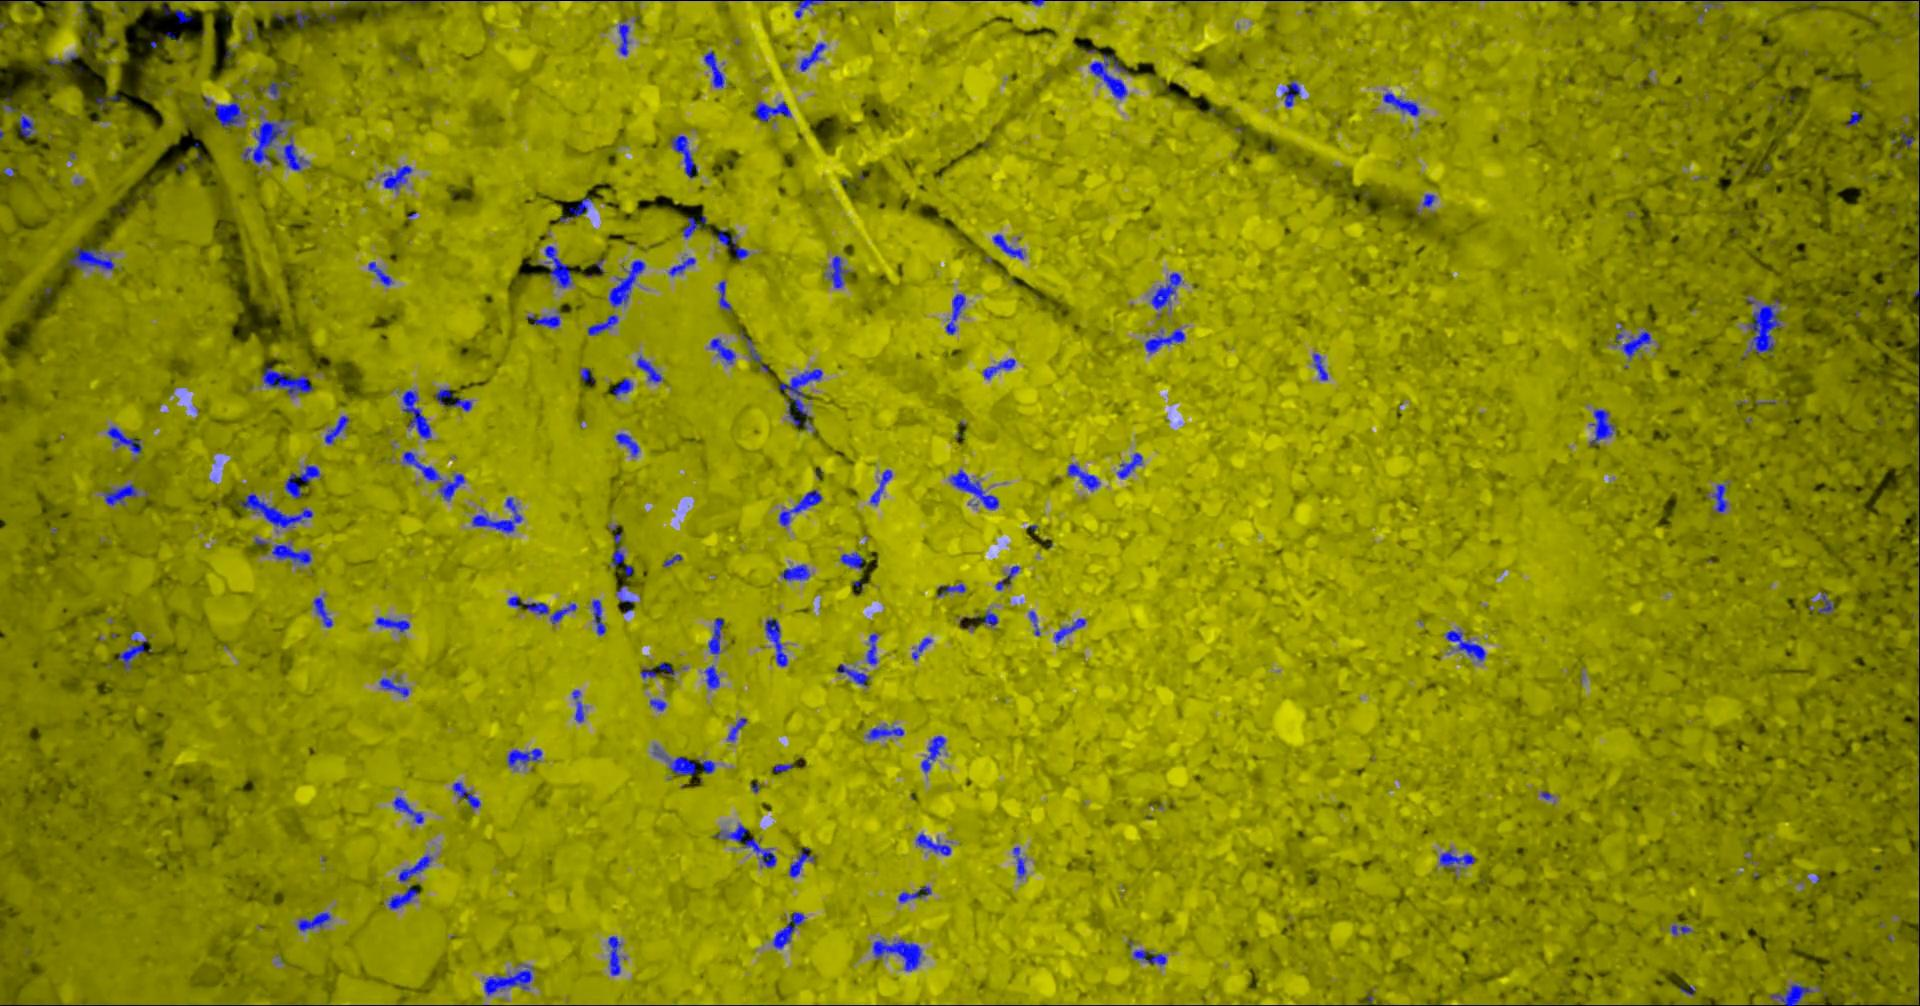ant: (712, 823, 776, 868), (778, 368, 822, 428), (237, 493, 312, 527), (241, 119, 291, 164), (949, 469, 998, 509), (1746, 297, 1780, 354), (653, 744, 714, 775), (471, 497, 522, 532), (1090, 53, 1128, 99), (608, 259, 644, 307), (262, 365, 312, 395), (778, 489, 822, 525), (872, 939, 921, 970), (483, 964, 532, 995), (202, 94, 246, 127), (403, 389, 430, 438), (117, 630, 151, 669), (1445, 630, 1484, 661), (1150, 272, 1183, 307), (283, 465, 319, 498), (543, 245, 571, 287), (739, 330, 767, 372), (772, 911, 804, 948), (670, 135, 697, 178), (403, 451, 441, 480), (712, 229, 748, 259), (67, 246, 114, 269), (764, 619, 787, 666), (105, 426, 141, 453), (1589, 408, 1615, 445), (397, 854, 432, 882), (1144, 328, 1183, 352), (282, 135, 309, 170), (1769, 983, 1811, 1005), (919, 735, 945, 771), (1382, 91, 1418, 116), (1067, 464, 1098, 490), (945, 293, 965, 334), (270, 544, 311, 564), (436, 387, 471, 410), (869, 469, 891, 504), (392, 796, 423, 823), (992, 234, 1023, 259), (103, 483, 137, 506), (799, 42, 825, 71), (1439, 848, 1474, 870), (559, 197, 590, 221), (1622, 332, 1650, 358), (507, 596, 549, 614), (452, 781, 480, 808), (789, 847, 814, 876), (916, 833, 950, 855), (387, 885, 418, 909), (824, 255, 847, 287), (1053, 619, 1084, 641), (836, 663, 869, 685), (709, 337, 735, 363), (383, 165, 411, 191), (636, 354, 662, 382), (324, 415, 349, 443), (438, 473, 463, 500), (754, 102, 791, 121), (507, 748, 541, 768), (703, 51, 723, 86), (982, 358, 1015, 379), (587, 314, 617, 335), (296, 912, 330, 931), (367, 260, 392, 286), (1116, 452, 1142, 478), (258, 80, 290, 99), (378, 676, 408, 696), (312, 597, 331, 627), (1131, 949, 1166, 965), (707, 617, 723, 654), (866, 724, 903, 739), (615, 433, 639, 456), (996, 565, 1018, 589), (526, 310, 559, 326), (549, 603, 577, 622), (898, 885, 930, 902), (682, 215, 705, 238), (375, 616, 409, 631), (607, 935, 620, 976), (668, 257, 695, 276), (590, 600, 604, 635), (794, 0, 823, 17), (780, 564, 809, 580), (1283, 79, 1300, 105), (910, 636, 931, 659), (1710, 483, 1727, 511), (726, 716, 745, 741), (717, 279, 731, 310), (611, 532, 623, 565), (1312, 353, 1327, 380), (612, 377, 632, 396), (17, 116, 34, 137), (571, 688, 583, 721), (936, 583, 965, 596), (1012, 847, 1025, 876), (839, 553, 863, 568), (866, 633, 877, 664), (1817, 591, 1832, 614), (703, 666, 719, 688), (618, 23, 629, 55), (95, 95, 118, 109), (174, 8, 192, 23), (1845, 111, 1863, 126), (1029, 610, 1039, 635), (982, 610, 997, 626), (1670, 923, 1691, 935), (663, 554, 682, 567), (295, 10, 309, 27), (579, 367, 593, 384), (658, 661, 674, 674), (1898, 132, 1912, 147), (639, 667, 655, 678), (649, 699, 665, 710), (772, 763, 792, 772), (1422, 193, 1434, 207), (1917, 456, 1919, 523)
